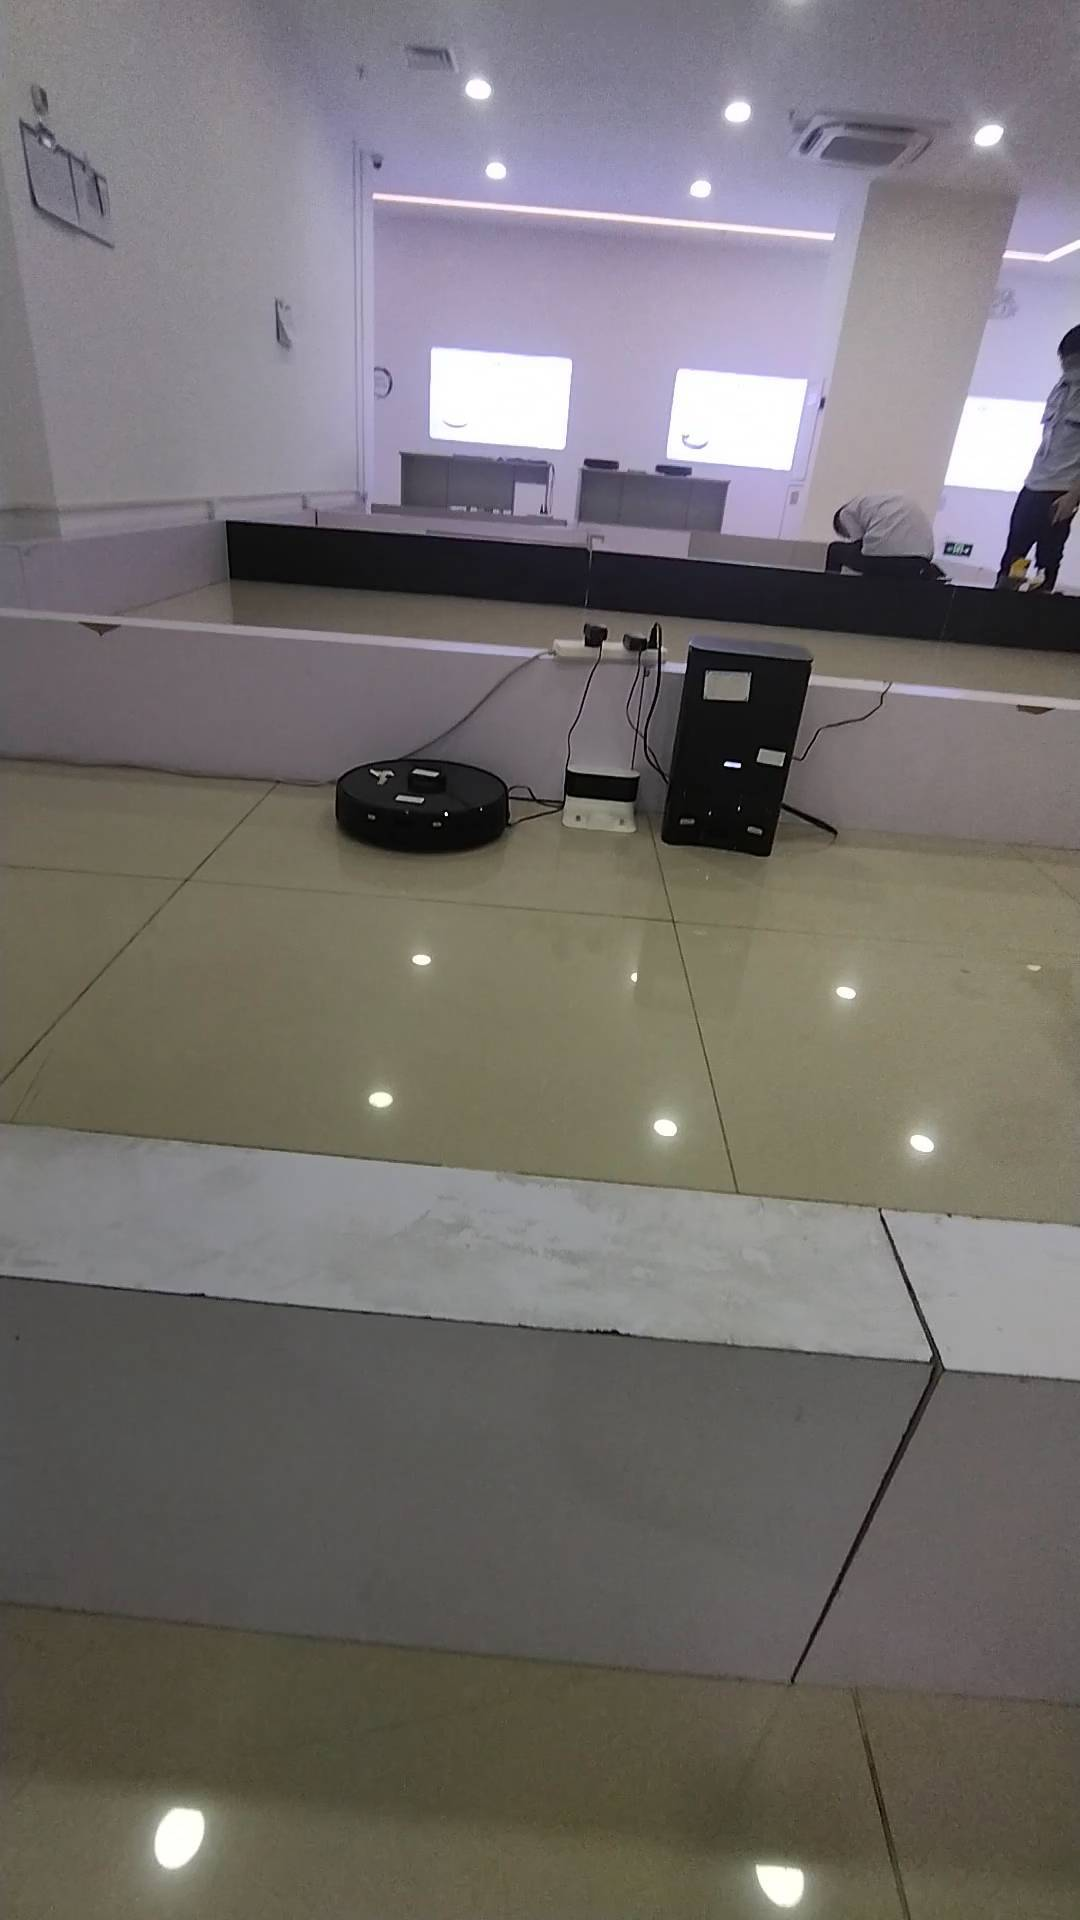dust collecting barrel: (663, 637, 816, 858)
recharge seat: (556, 758, 646, 839)
